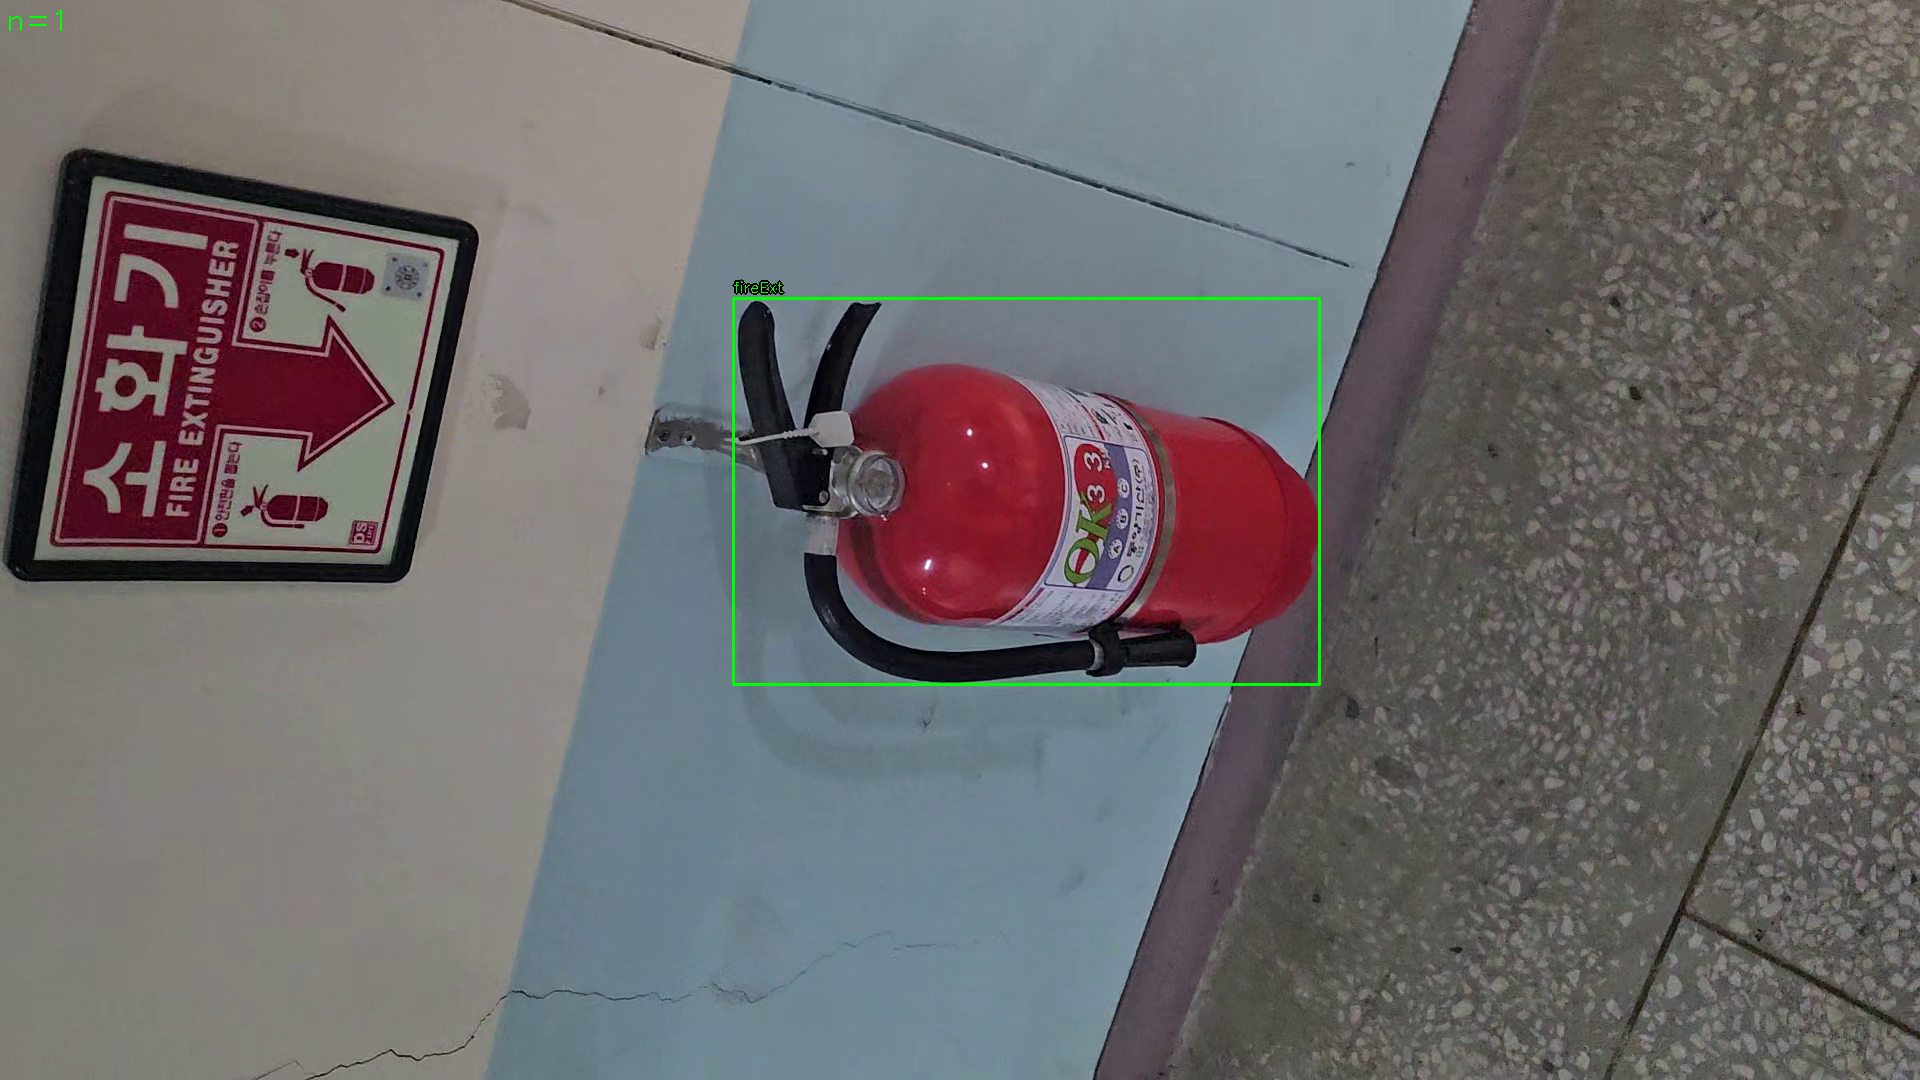lane: (733, 298, 1320, 684)
